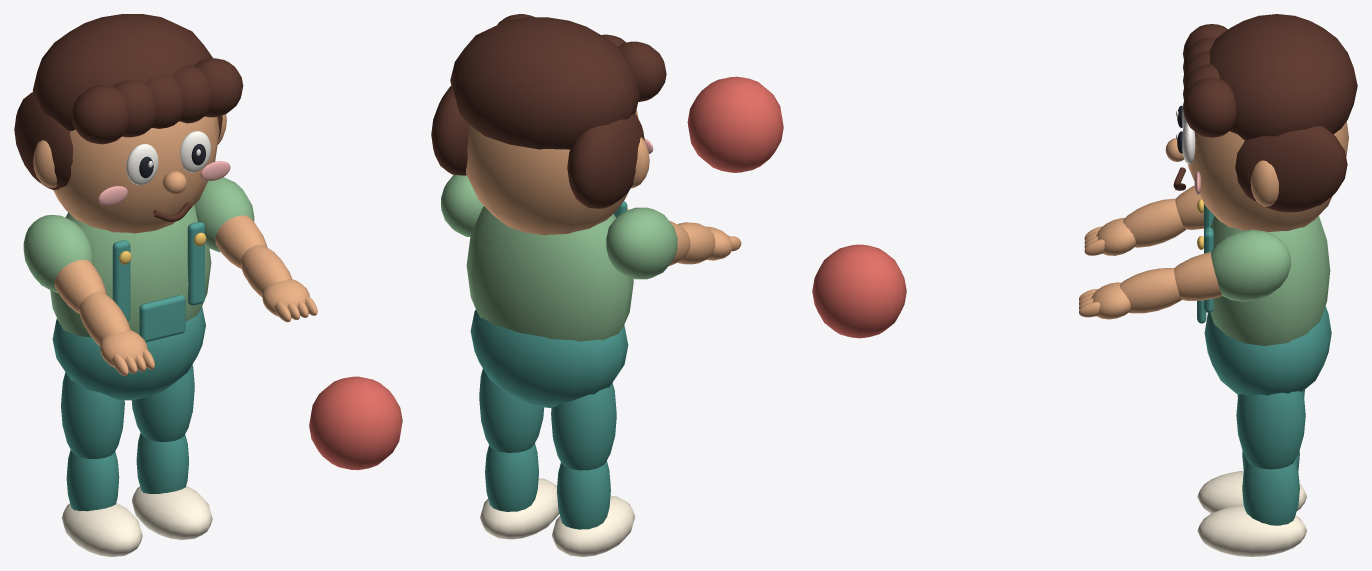
Rendered from daddy-catch.glb.
3 renders of one model, left to right at view 1: azimuth 30°, elevation 25°; view 2: azimuth 150°, elevation 25°; view 3: azimuth 270°, elevation 25°, orthographic. The views are drawn at different scales.
Visible parts, largest first — view 1: hair cap, clay head, soft shirt, soft ball, overalls, trouser leg, shirt sleeve, little shoe, little shoe.001, bob hair, trouser leg.001, fringe (+19 smaller); view 2: hair cap, soft shirt, clay head, overalls, soft ball, bob hair, trouser leg, shirt sleeve, trouser leg.001, lower leg, lower leg.001, little shoe (+8 smaller); view 3: hair cap, soft shirt, soft ball, bob hair.001, overalls, clay head, trouser leg.001, shirt sleeve.001, little shoe.001, lower leg.001, fringe.004, forearm.001 (+7 smaller).
Boxes of the visible parts, box(x1,y1,x2,y2) form: hair cap: box(32, 14, 212, 130); clay head: box(53, 116, 219, 233); soft shirt: box(50, 205, 211, 337); soft ball: box(309, 376, 402, 470); overalls: box(52, 306, 205, 400); trouser leg: box(61, 372, 124, 458); shirt sleeve: box(23, 215, 93, 292); little shoe: box(62, 503, 142, 556); little shoe.001: box(131, 486, 212, 539); bob hair: box(14, 92, 72, 190); trouser leg.001: box(131, 364, 194, 441); fringe: box(71, 85, 128, 144); hair cap: box(450, 17, 639, 149); soft shirt: box(466, 206, 633, 341); clay head: box(466, 109, 638, 235); overalls: box(470, 310, 628, 407); soft ball: box(687, 76, 783, 172); bob hair: box(567, 114, 644, 208); trouser leg: box(551, 383, 616, 470); shirt sleeve: box(606, 207, 677, 279); trouser leg.001: box(479, 368, 544, 452); lower leg: box(557, 461, 610, 529); lower leg.001: box(485, 443, 538, 511); little shoe: box(552, 496, 634, 556); hair cap: box(1209, 14, 1357, 140); soft shirt: box(1210, 216, 1330, 346); soft ball: box(812, 244, 906, 338); bob hair.001: box(1235, 126, 1347, 212); overalls: box(1204, 306, 1331, 395); clay head: box(1188, 121, 1348, 231); trouser leg.001: box(1236, 391, 1305, 469); shirt sleeve.001: box(1211, 229, 1291, 301); little shoe.001: box(1197, 505, 1306, 556); lower leg.001: box(1242, 460, 1299, 525); fringe.004: box(1183, 77, 1236, 137); forearm.001: box(1120, 268, 1181, 313).
Bounding box in the file's own units: 0.957 × 2.14 × 2.08.
